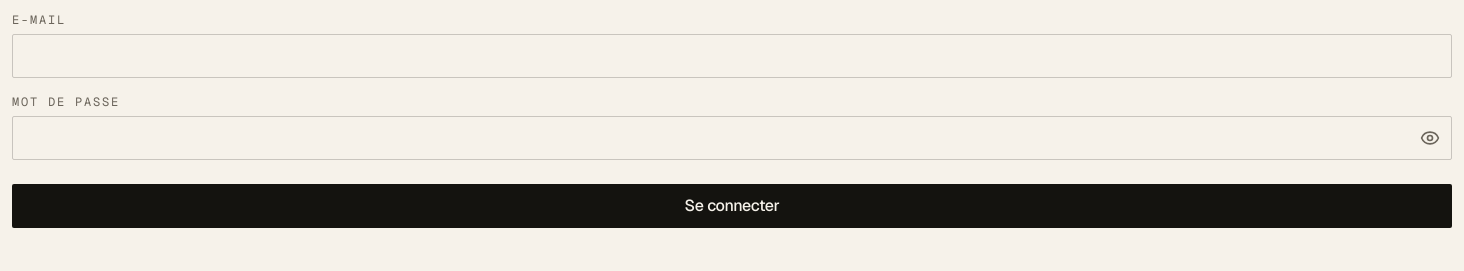
LoginForm › bloque la soumission si l'e-mail est mal formé (aucun appel réseau)
Type "pas-un-email" into the field labelled "E-mail" at (732, 56), box [12,34,1452,78]
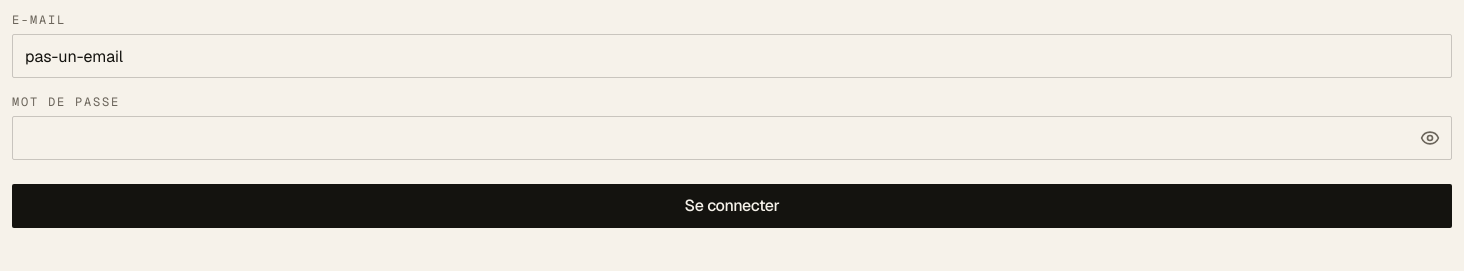
Type "secret" into the password field labelled "Mot de passe" at (732, 138), box [12,116,1452,160]
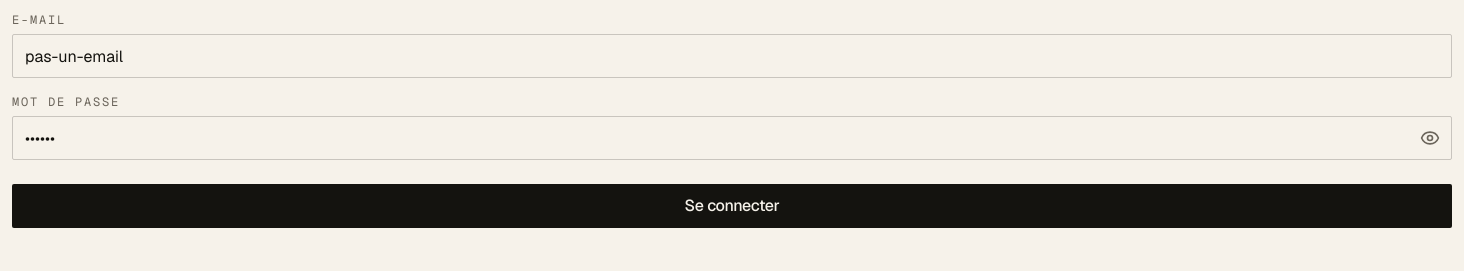
Click the button "Se connecter" at (732, 206), box [12,184,1452,228]
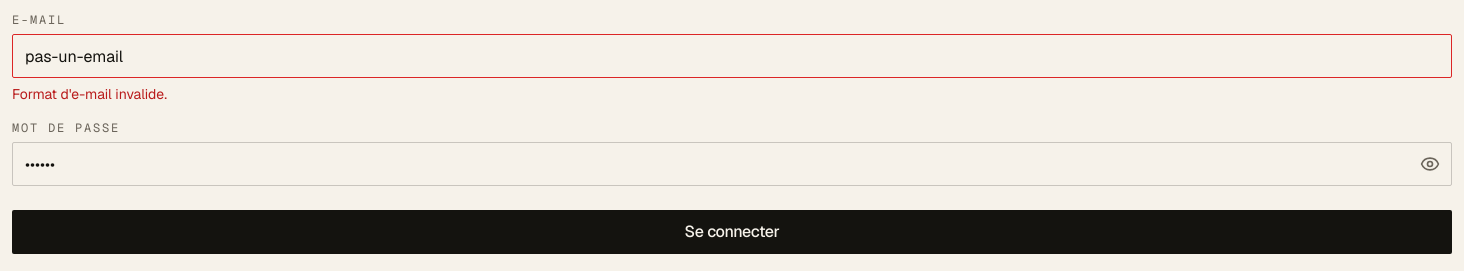
Check: the text "Format d'e-mail invalide." is shown, box [12,85,167,103]
